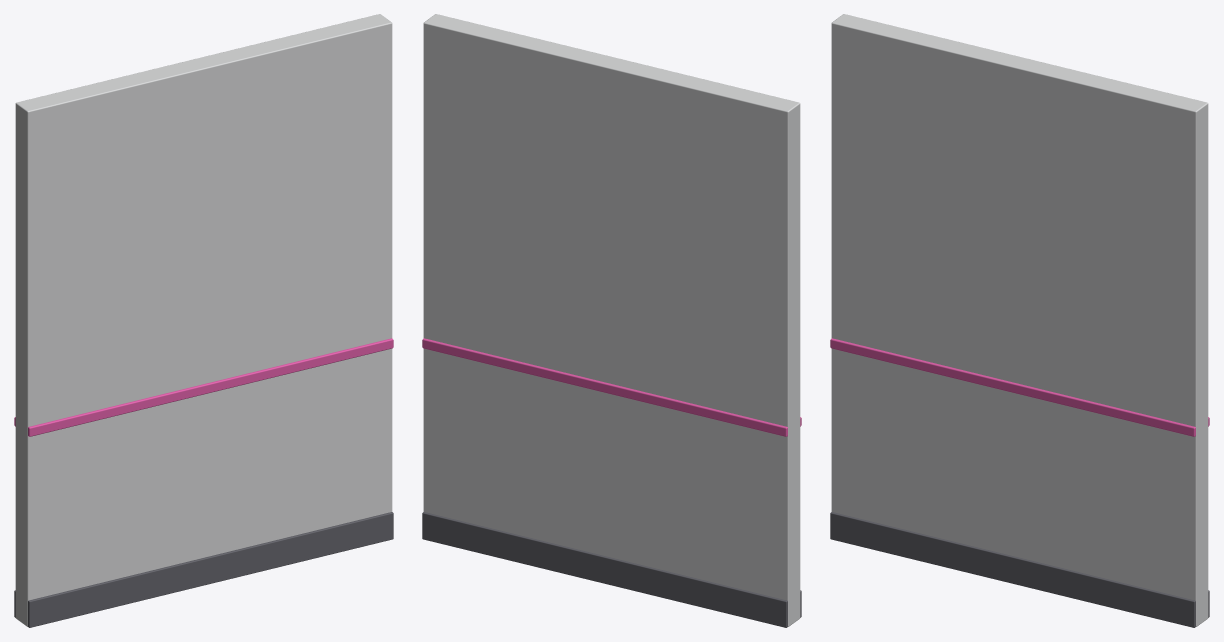
File: tattoo-and-piercing-studio-studio-wall-module-aa71c8e0__34558.glb
3 views of the same model, side by side, from view 1: azimuth 30°, elevation 25°; view 2: azimuth 150°, elevation 25°; view 3: azimuth 330°, elevation 25° (orthographic).
Visible parts, largest first — view 1: studio-wall-module; view 2: studio-wall-module; view 3: studio-wall-module.
Part boxes in pixels (x1,y1,x2,y2): studio-wall-module: (14, 14, 393, 627); studio-wall-module: (422, 14, 801, 627); studio-wall-module: (830, 14, 1209, 627).
Bounding box in the file's own units: 2 × 2.7 × 0.146.
